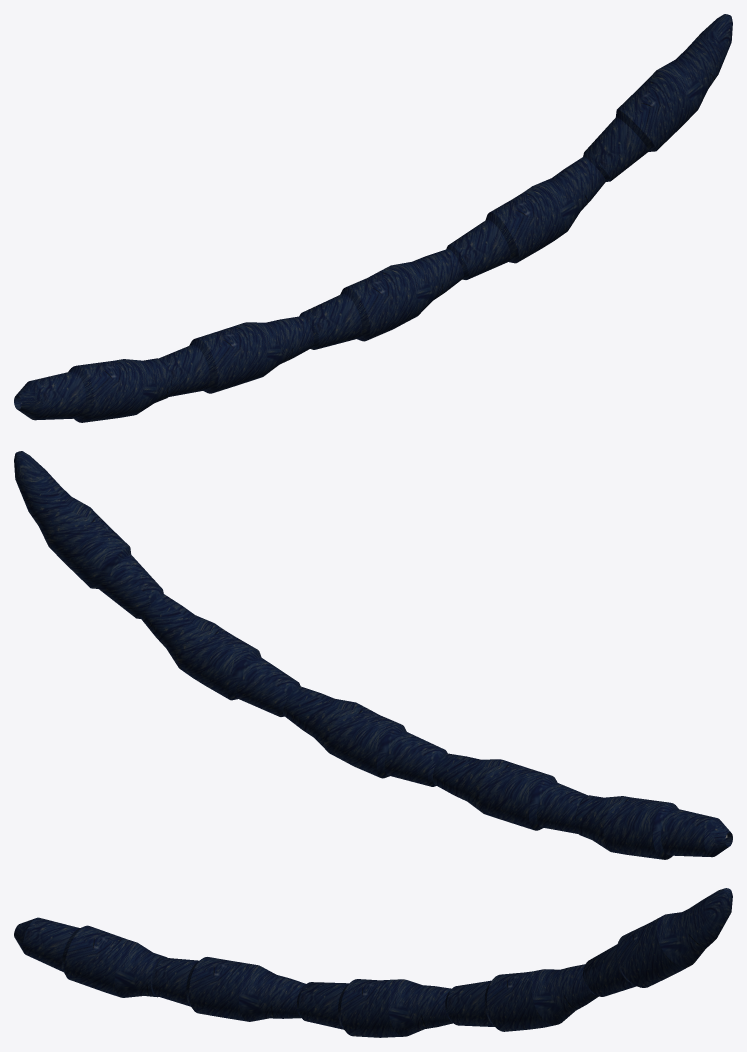
File: ChannelNew.fbx
3 views of the same model, one above another, from view 1: azimuth 30°, elevation 25°; view 2: azimuth 150°, elevation 25°; view 3: azimuth 330°, elevation 25° (orthographic).
Visible parts, largest first — view 1: Channel; view 2: Channel; view 3: Channel.
Boxes of the visible parts, bbox=[...] form: Channel: bbox=[14, 14, 732, 422]; Channel: bbox=[14, 451, 732, 859]; Channel: bbox=[14, 888, 732, 1037].
Size of the model in its own units: 2868 by 969 by 200.
